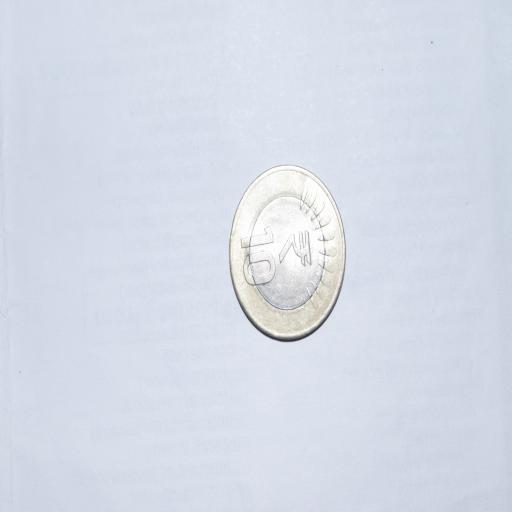rupee10: (224, 163, 347, 345)
